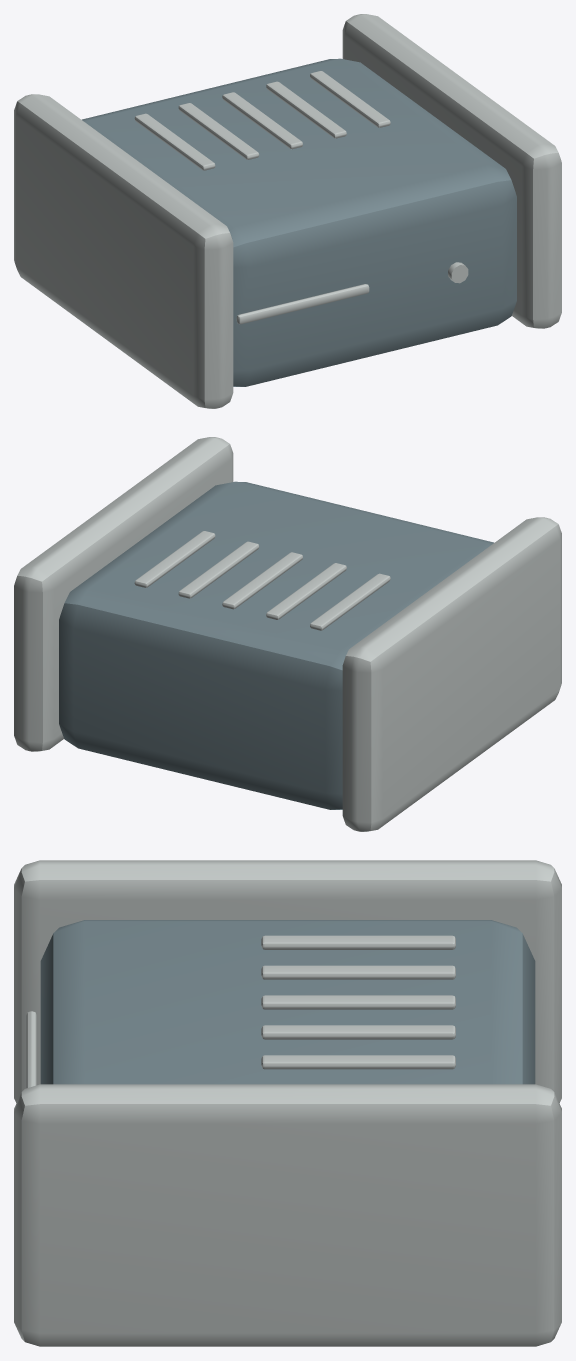
The model's file is game-console.glb.
3 views of the same model, one above another, from view 1: azimuth 30°, elevation 25°; view 2: azimuth 150°, elevation 25°; view 3: azimuth 270°, elevation 25° (orthographic). The views are drawn at different scales.
Visible parts, largest first — view 1: central_core, curved_side_panel, curved_side_panel.001, disc_slot, top_vent, top_vent.001, top_vent.002, top_vent.003, top_vent.004; view 2: central_core, curved_side_panel, curved_side_panel.001, top_vent.003, top_vent.004, top_vent, top_vent.002, top_vent.001; view 3: curved_side_panel.001, central_core, curved_side_panel, top_vent.002, top_vent.003, top_vent, top_vent.001, top_vent.004, disc_slot.
Boxes of the visible parts, box(x1,y1,x2,y2) form: central_core: box(82, 58, 516, 386); curved_side_panel: box(14, 94, 233, 408); curved_side_panel.001: box(342, 14, 561, 328); disc_slot: box(236, 284, 369, 324); top_vent: box(134, 113, 215, 170); top_vent.001: box(178, 103, 259, 159); top_vent.002: box(222, 92, 302, 149); top_vent.003: box(266, 81, 346, 138); top_vent.004: box(310, 71, 390, 127); central_core: box(59, 481, 493, 809); curved_side_panel: box(342, 517, 561, 831); curved_side_panel.001: box(14, 437, 233, 751); top_vent.003: box(178, 541, 259, 598); top_vent.004: box(134, 531, 215, 587); top_vent: box(310, 573, 390, 630); top_vent.002: box(222, 552, 302, 609); top_vent.001: box(266, 563, 346, 619); curved_side_panel.001: box(14, 1084, 561, 1346); central_core: box(40, 920, 535, 1084); curved_side_panel: box(14, 860, 561, 1102); top_vent.002: box(261, 995, 455, 1009); top_vent.003: box(261, 1025, 455, 1039); top_vent: box(261, 935, 455, 949); top_vent.001: box(261, 965, 455, 979); top_vent.004: box(261, 1055, 455, 1069); disc_slot: box(26, 1011, 36, 1088).
Size of the model in its own units: 0.335 by 0.16 by 0.31.
